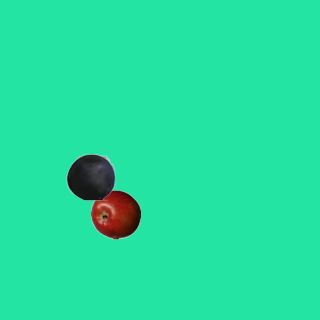Apple Braeburn: (90, 189, 140, 239)
Grape Blue: (65, 151, 115, 201)
